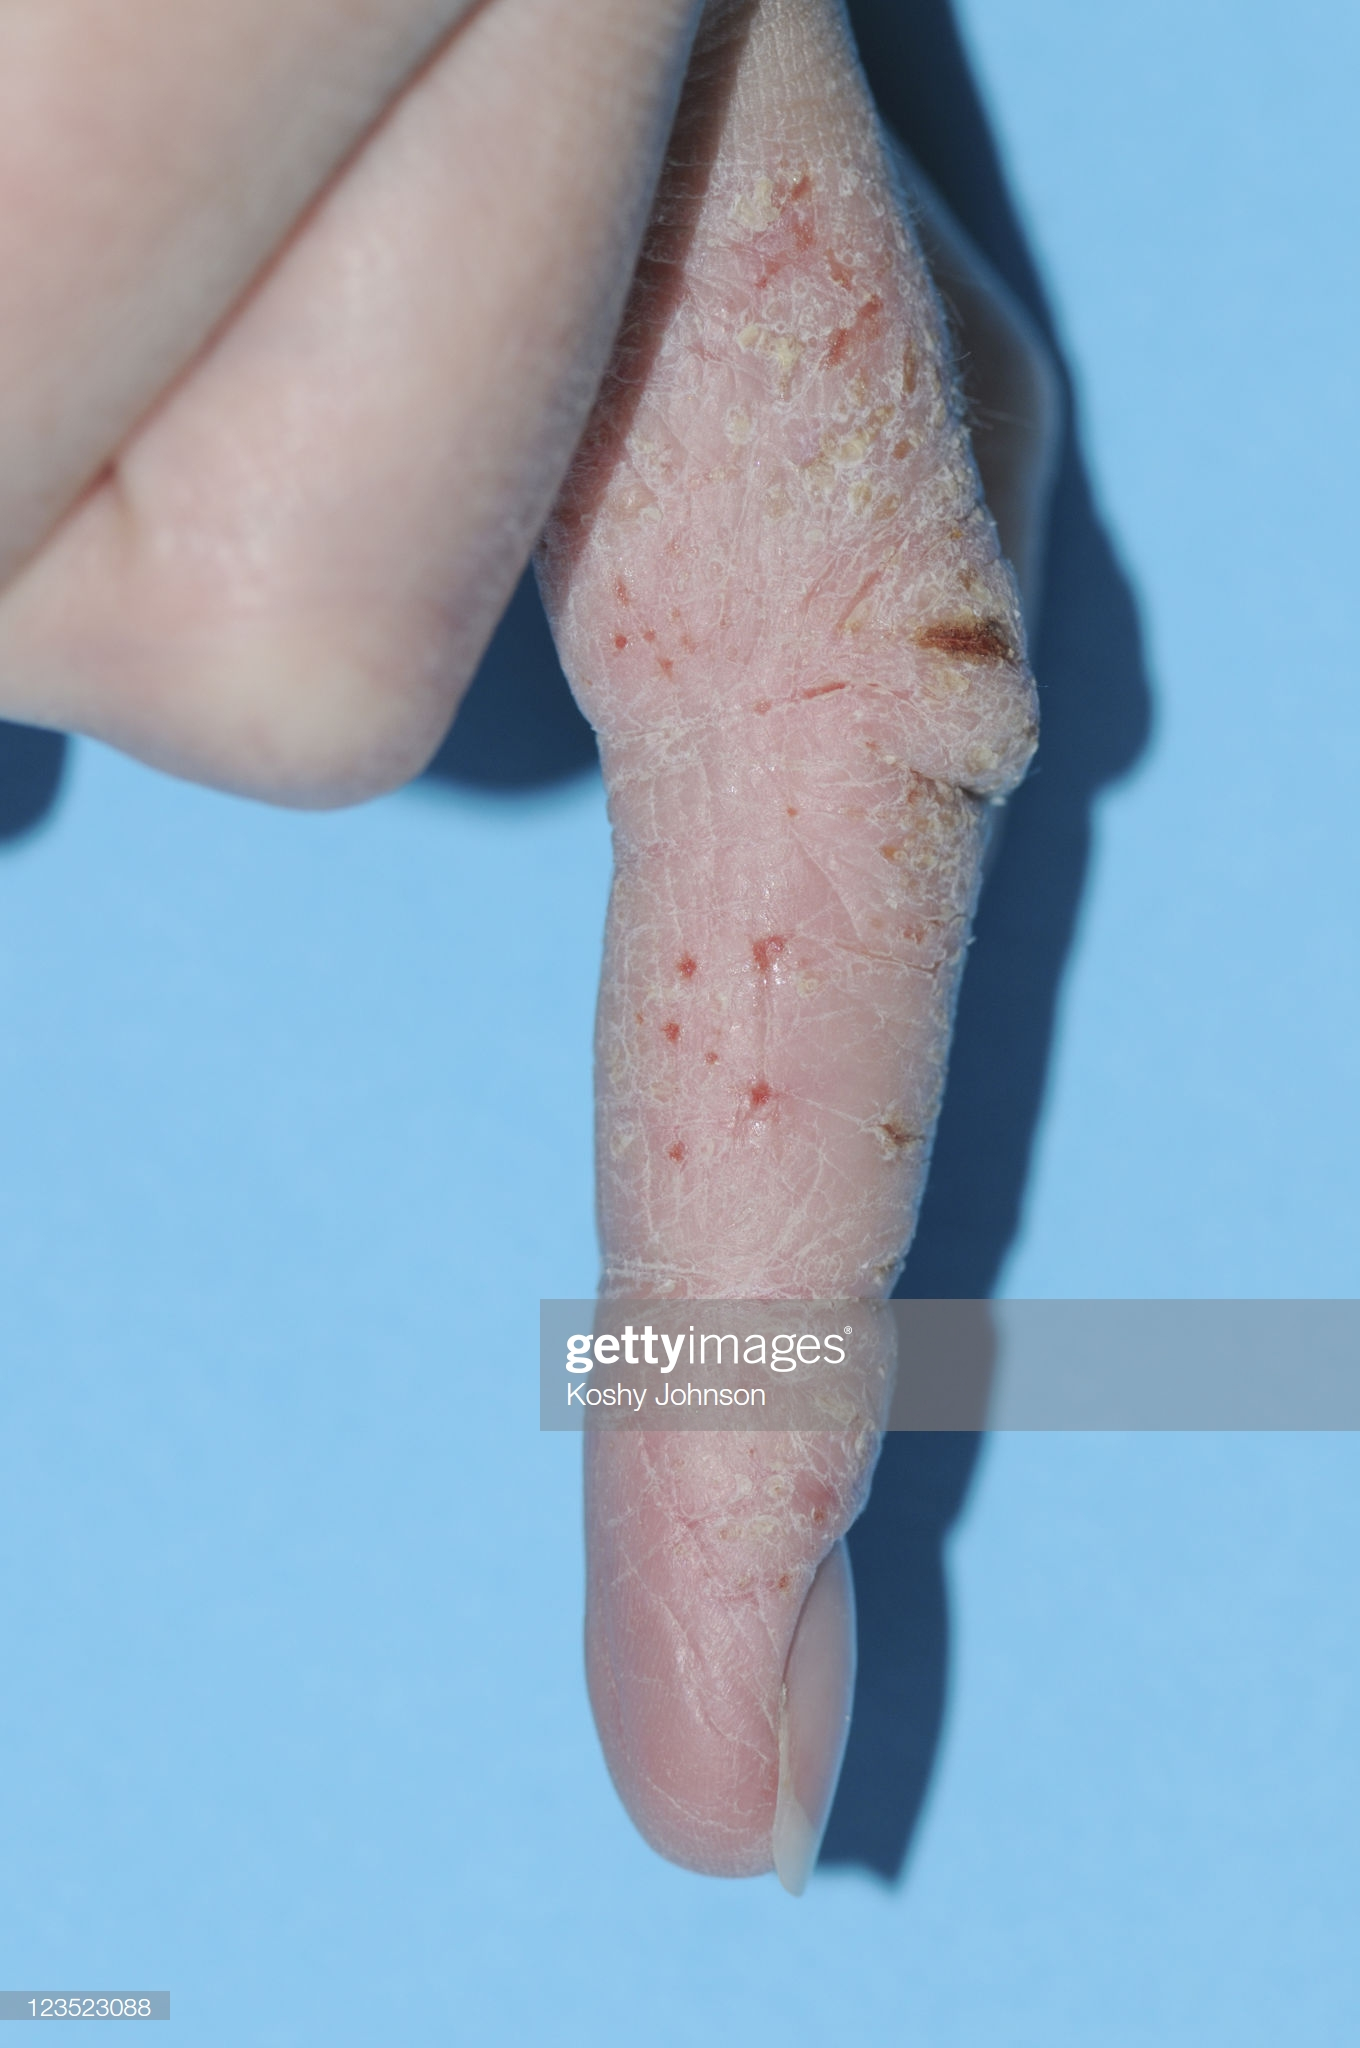Eczema: (512, 196, 1072, 1742)
